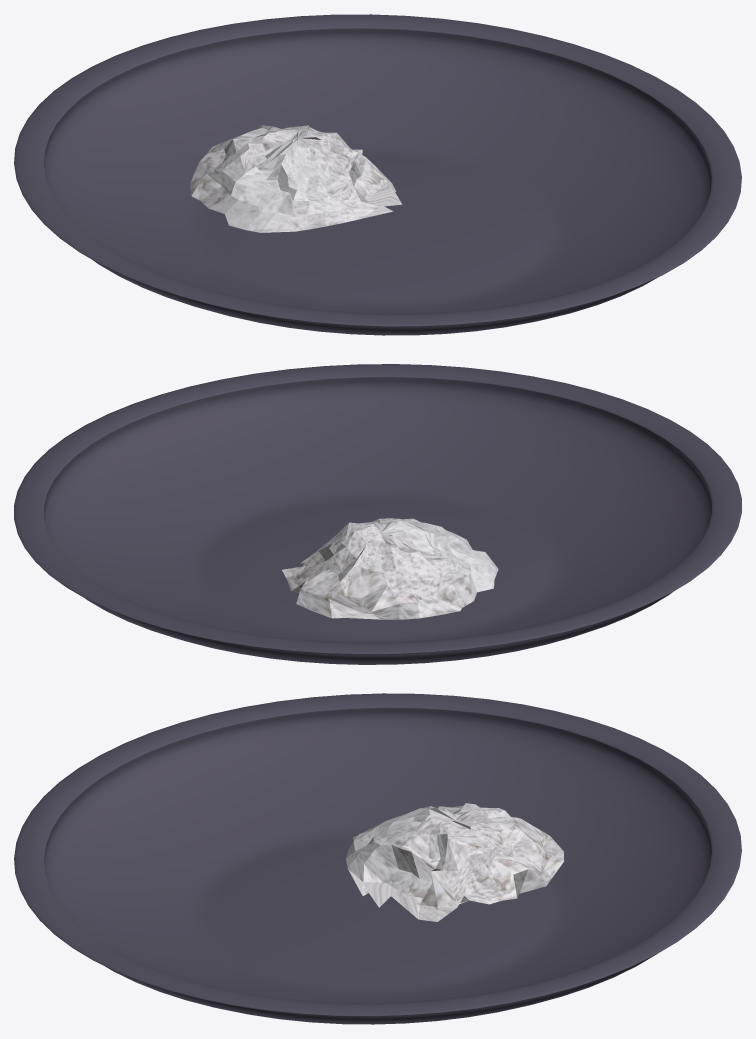
Rendered from baking powder.glb.
3 renders of one model, top to bottom at view 1: azimuth 30°, elevation 25°; view 2: azimuth 150°, elevation 25°; view 3: azimuth 270°, elevation 25°, orthographic.
Visible parts, largest first — view 1: Object_2.001, Sphere; view 2: Object_2.001, Sphere; view 3: Object_2.001, Sphere.
Part boxes in pixels (box(x1,y1,x2,y2)): Object_2.001: box(14, 14, 741, 335); Sphere: box(190, 125, 402, 232); Object_2.001: box(14, 364, 741, 664); Sphere: box(282, 518, 498, 619); Object_2.001: box(14, 693, 741, 1024); Sphere: box(346, 803, 564, 921).
Size of the model in its own units: 2.37 by 0.3133 by 2.37.
Materials: 2 (1 with a texture image).
